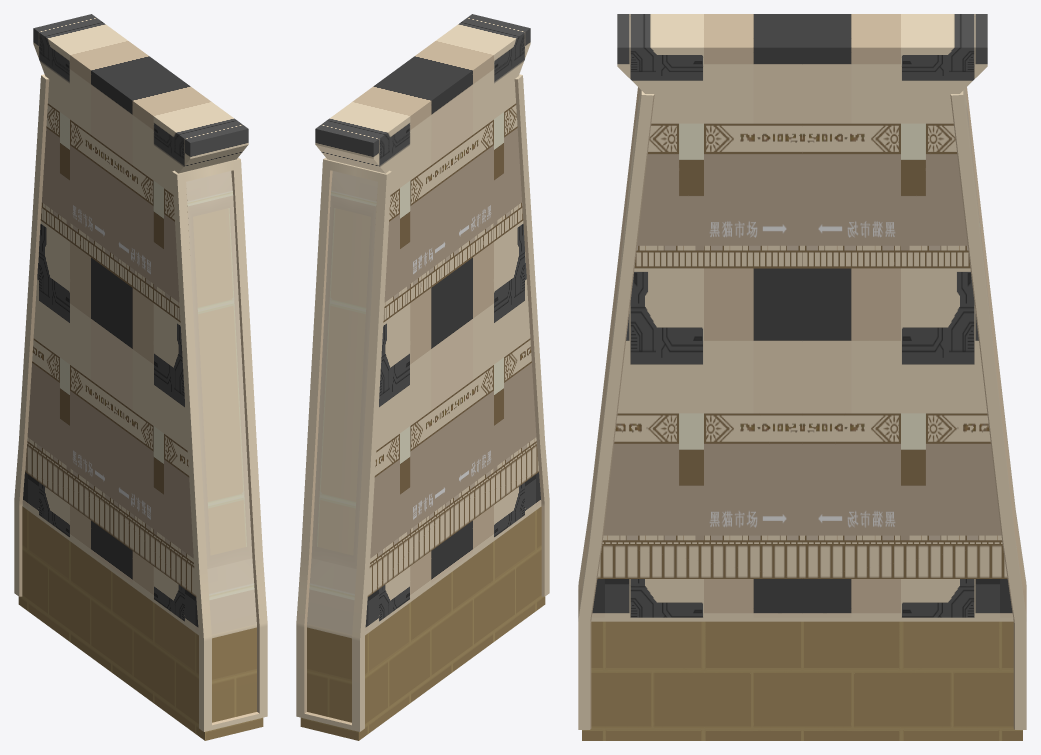
The model's file is Wall2.fbx.
The picture shows the model from 3 angles, left to right: view 1: azimuth 30°, elevation 25°; view 2: azimuth 150°, elevation 25°; view 3: azimuth 270°, elevation 25°; orthographic projection. The views are drawn at different scales.
Parts seen in each view (by area): view 1: column3_Shap1; view 2: column3_Shap1; view 3: column3_Shap1.
Boxes of the visible parts, left/top/right/bottom form: column3_Shap1: left=14, top=14, right=267, bottom=740; column3_Shap1: left=296, top=14, right=549, bottom=740; column3_Shap1: left=578, top=14, right=1026, bottom=740.
Size of the model in its own units: 0.1949 by 1.71 by 1.
